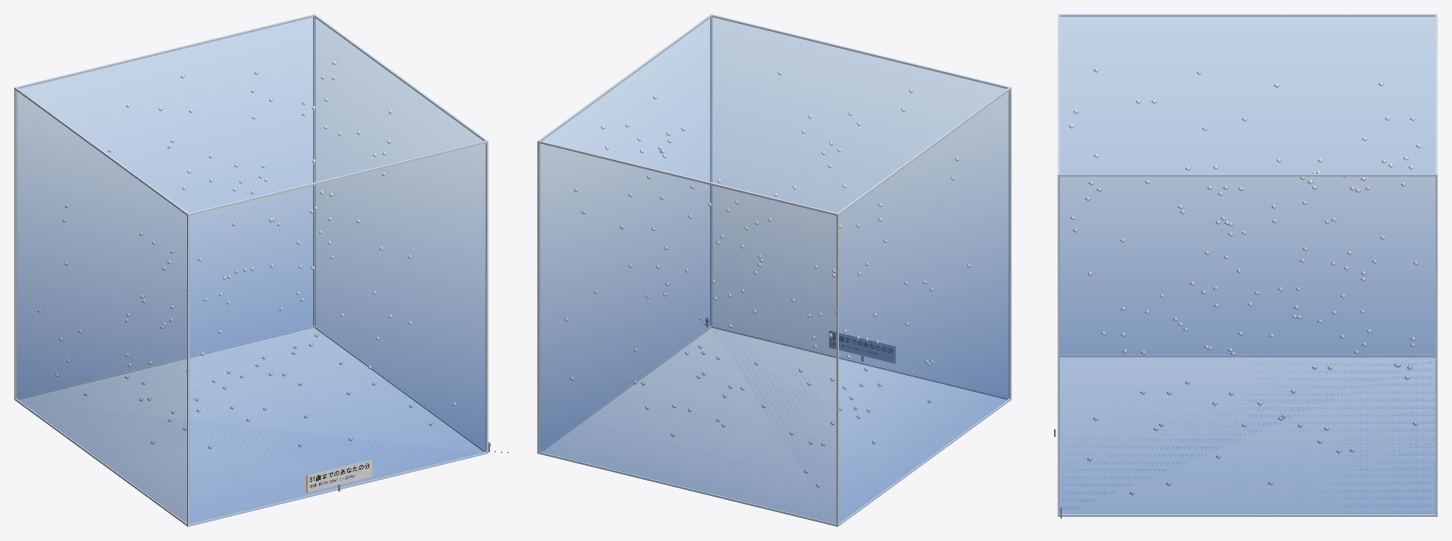
The model's file is cube_life_31.glb.
3 views of the same model, side by side, from view 1: azimuth 30°, elevation 25°; view 2: azimuth 150°, elevation 25°; view 3: azimuth 270°, elevation 25° (orthographic). The views are drawn at different scales.
Visible parts, largest first — view 1: co2, edge, dots, label; view 2: co2, edge, dots, label; view 3: co2, edge, dots.
Part boxes in pixels (x1,y1,x2,y2): co2: (16,15,485,523); edge: (14,14,488,526); dots: (37,61,456,449); label: (306,459,372,492); co2: (540,15,1009,523); edge: (537,14,1011,526); dots: (564,71,971,487); label: (829,331,895,363); co2: (1059,14,1436,513); edge: (1057,14,1437,516); dots: (1069,68,1421,495).
Size of the model in its own units: 57.82 by 54.1 by 56.92.
8 materials, 3 textured.
